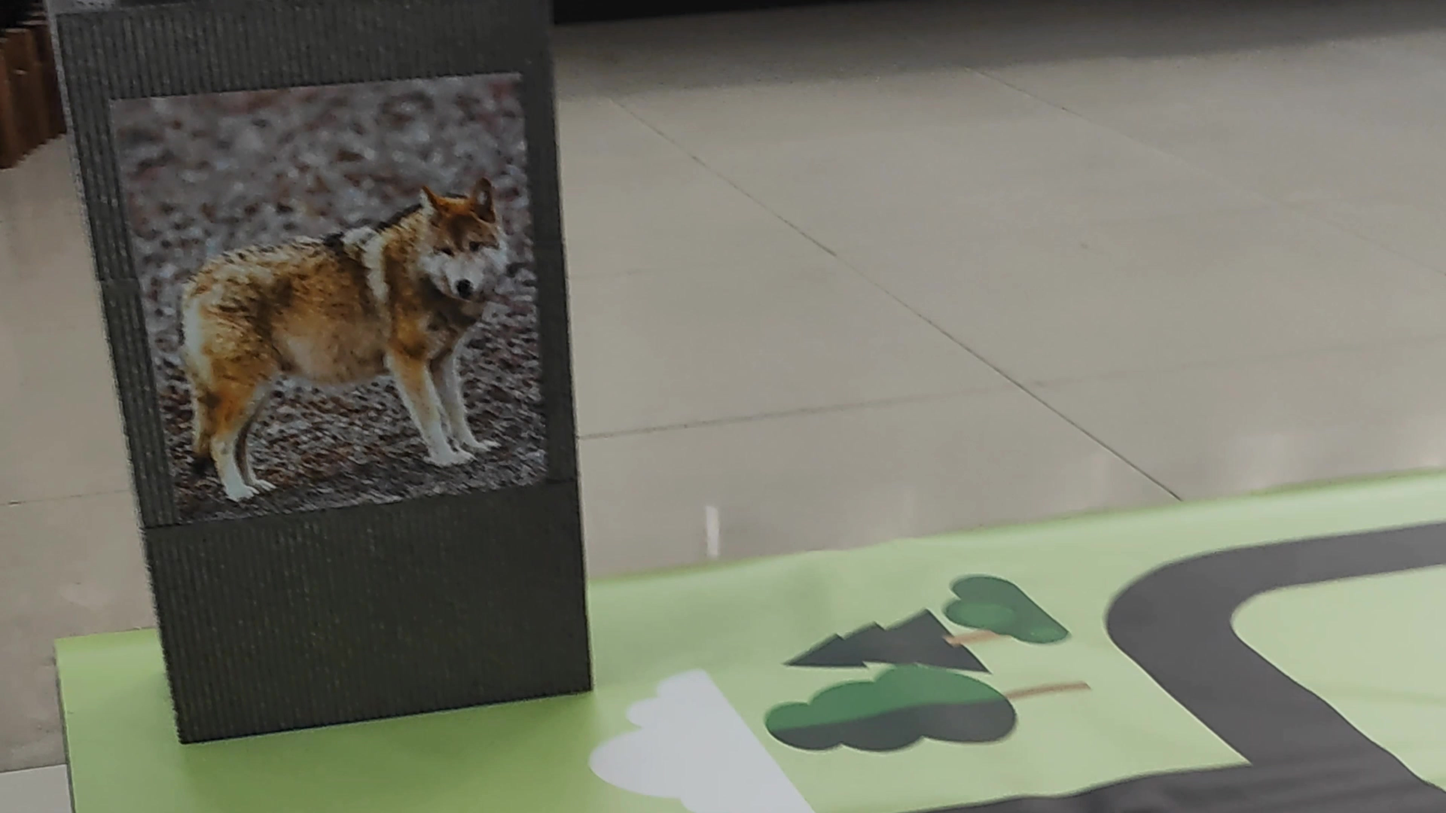wolf: (151, 181, 524, 481)
